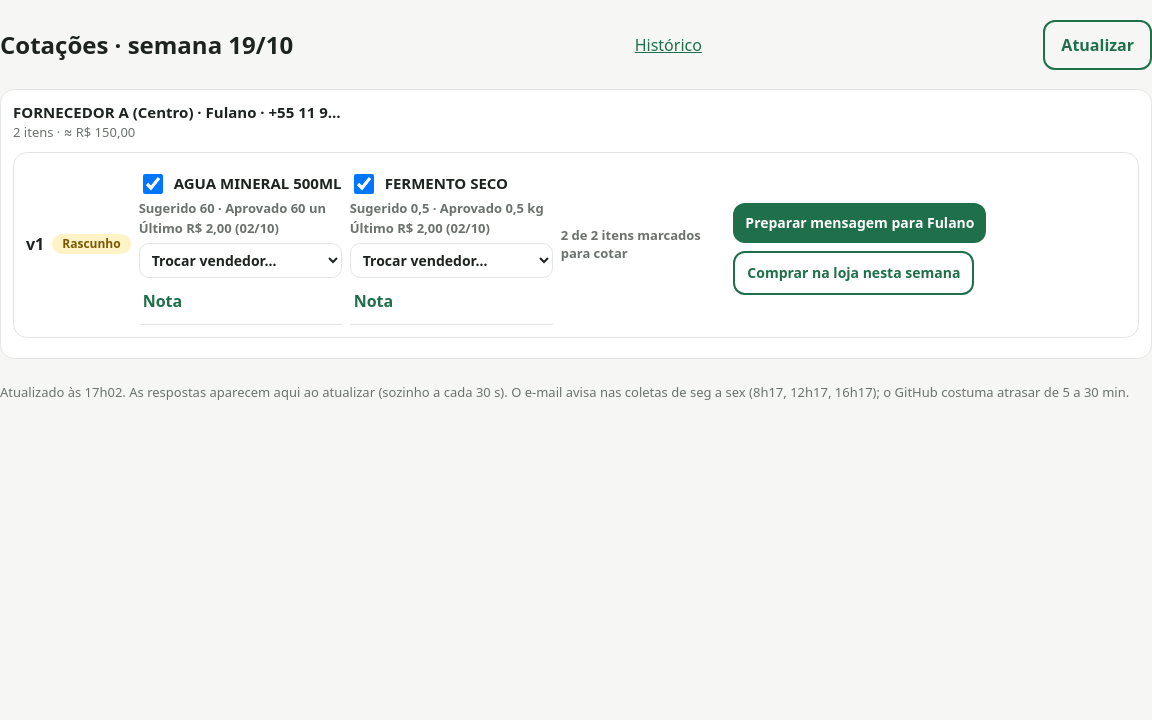
Scenario: Cotações — rascunho e Preparar › sem notas longas não há aviso de tamanho
This screenshot has width=1152, height=720.
What coordinates should you click on to do the following:
click the button "Preparar mensagem para Fulano"
I would click on:
 (860, 223)
Its box is [733,203,986,243].
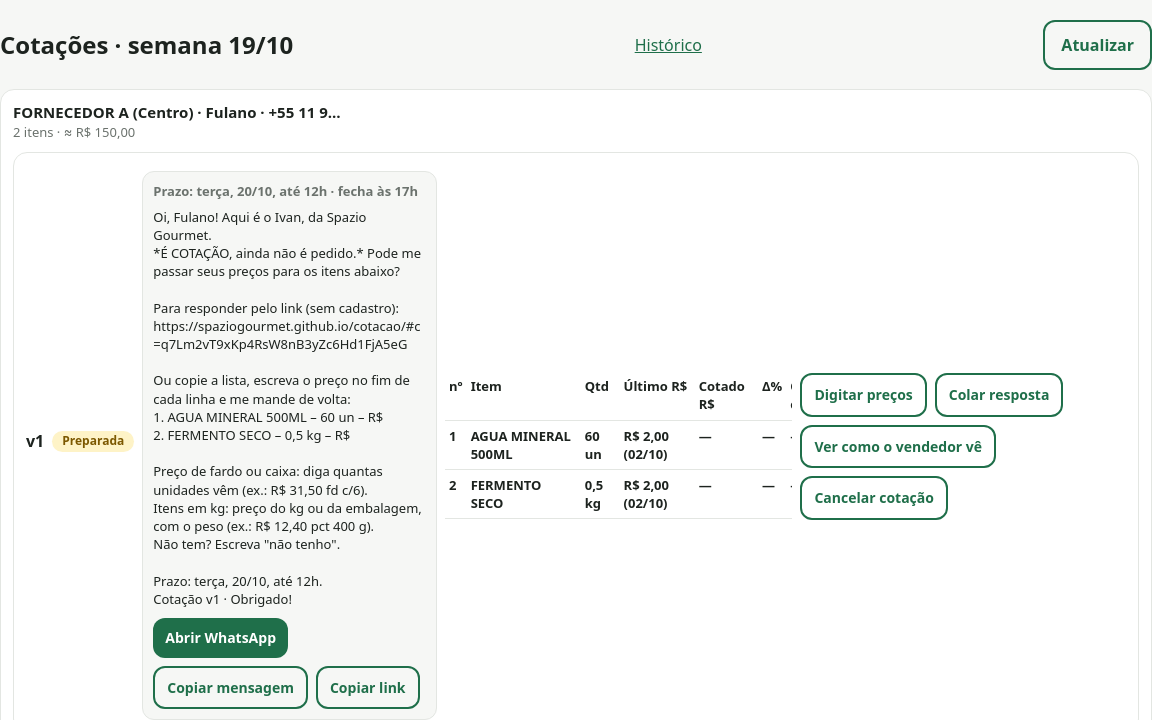
Check: the link "Abrir WhatsApp" is shown, box [153,618,288,658]
